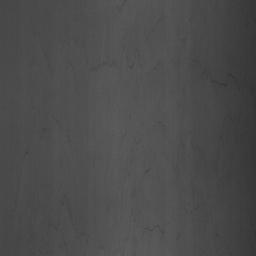Silk spot: (250, 183, 256, 256), (143, 224, 165, 240), (90, 61, 116, 72), (250, 85, 256, 128), (211, 80, 228, 88), (200, 68, 210, 80), (192, 56, 201, 68), (227, 73, 237, 83), (253, 144, 256, 176)
